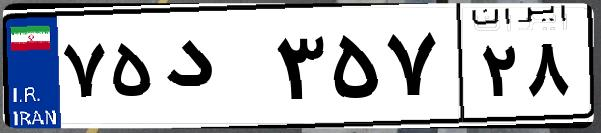2: (475, 38, 525, 113)
3: (270, 28, 330, 110)
5: (330, 28, 385, 110), (110, 28, 158, 98)
7: (385, 28, 445, 110), (57, 26, 110, 100)
8: (525, 38, 570, 115)
د: (158, 20, 270, 120)
